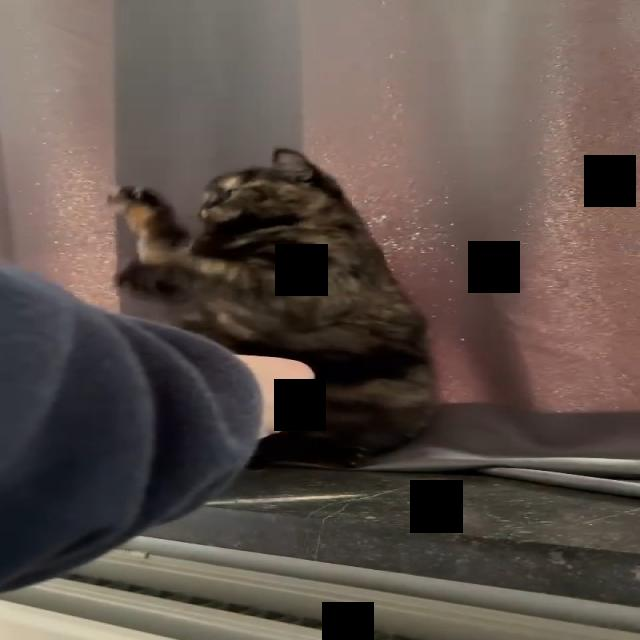authorized: (105, 147, 438, 470)
